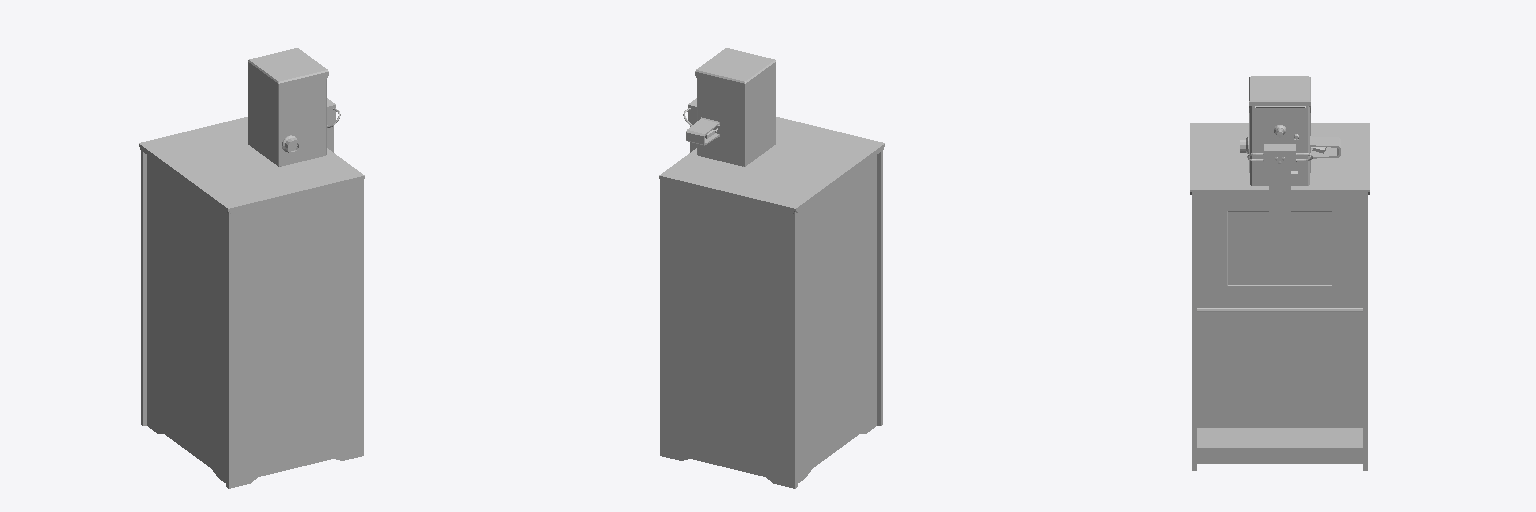
The model's file is NewspaperBox_LOD0.obj.
The picture shows the model from 3 angles: view 1: azimuth 30°, elevation 25°; view 2: azimuth 150°, elevation 25°; view 3: azimuth 270°, elevation 25°; orthographic projection.
Visible parts, largest first — view 1: NewspaperBox_LOD0 NewspaperBox; view 2: NewspaperBox_LOD0 NewspaperBox; view 3: NewspaperBox_LOD0 NewspaperBox.
Part boxes in pixels (x1,y1,x2,y2): NewspaperBox_LOD0 NewspaperBox: (139,48,364,488); NewspaperBox_LOD0 NewspaperBox: (659,48,884,488); NewspaperBox_LOD0 NewspaperBox: (1190,76,1369,470).
Bounding box in the file's own units: 58.71 × 142 × 62.77.